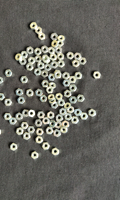nut: (31, 152, 39, 160), (52, 148, 60, 156), (42, 143, 50, 151), (16, 128, 24, 136), (46, 127, 54, 135), (28, 110, 36, 118), (56, 114, 64, 122), (71, 117, 79, 125), (74, 109, 82, 117), (26, 89, 34, 97), (75, 72, 83, 80), (41, 70, 49, 78), (44, 64, 52, 72), (67, 52, 75, 60), (28, 57, 36, 65), (55, 46, 63, 54), (51, 33, 59, 41), (58, 35, 66, 43), (38, 33, 46, 41), (35, 27, 43, 35), (30, 22, 38, 30), (93, 72, 102, 79), (10, 144, 18, 151), (36, 136, 43, 144), (23, 133, 31, 140), (36, 129, 44, 136), (21, 123, 29, 130), (54, 130, 61, 138), (61, 126, 68, 134), (35, 120, 43, 127), (49, 121, 57, 128), (9, 118, 17, 125), (4, 113, 12, 120), (16, 113, 23, 121), (65, 113, 72, 121), (89, 109, 96, 117), (67, 107, 75, 114), (60, 108, 67, 116), (64, 103, 72, 110), (58, 100, 66, 107), (51, 102, 59, 109), (70, 97, 78, 104), (77, 95, 85, 102), (49, 98, 57, 105), (65, 90, 72, 98), (40, 95, 47, 103), (36, 89, 43, 97), (4, 99, 12, 106), (46, 87, 54, 94), (49, 82, 56, 90), (63, 80, 71, 87), (5, 70, 13, 77), (69, 77, 77, 84), (63, 72, 70, 80), (48, 74, 56, 81), (54, 72, 62, 79), (34, 69, 42, 76), (26, 64, 34, 71), (38, 62, 45, 70), (51, 61, 58, 69), (58, 60, 65, 68), (73, 60, 80, 68), (79, 58, 87, 65), (15, 54, 23, 61), (27, 47, 34, 55), (42, 55, 49, 63), (35, 48, 42, 56), (57, 53, 65, 60), (42, 46, 49, 54), (28, 127, 35, 134), (43, 118, 50, 125), (63, 121, 70, 128), (22, 110, 29, 117), (38, 112, 45, 119), (48, 112, 55, 119), (81, 113, 88, 120), (56, 94, 63, 101), (70, 85, 77, 92), (18, 97, 25, 104), (16, 89, 23, 96), (42, 81, 49, 88), (21, 77, 28, 84), (54, 70, 61, 77), (75, 53, 82, 60), (35, 56, 42, 63), (21, 51, 28, 58), (44, 57, 51, 64), (50, 54, 57, 61), (48, 47, 55, 54), (52, 41, 59, 48), (19, 59, 27, 65), (56, 122, 62, 129), (48, 95, 55, 101), (0, 93, 5, 101), (58, 41, 64, 47), (0, 77, 4, 84), (0, 128, 2, 136)
